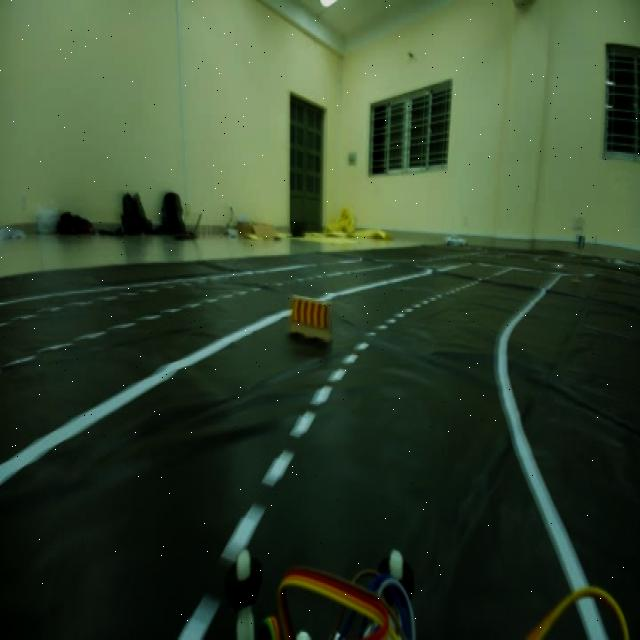roadblock: (285, 290, 337, 350)
